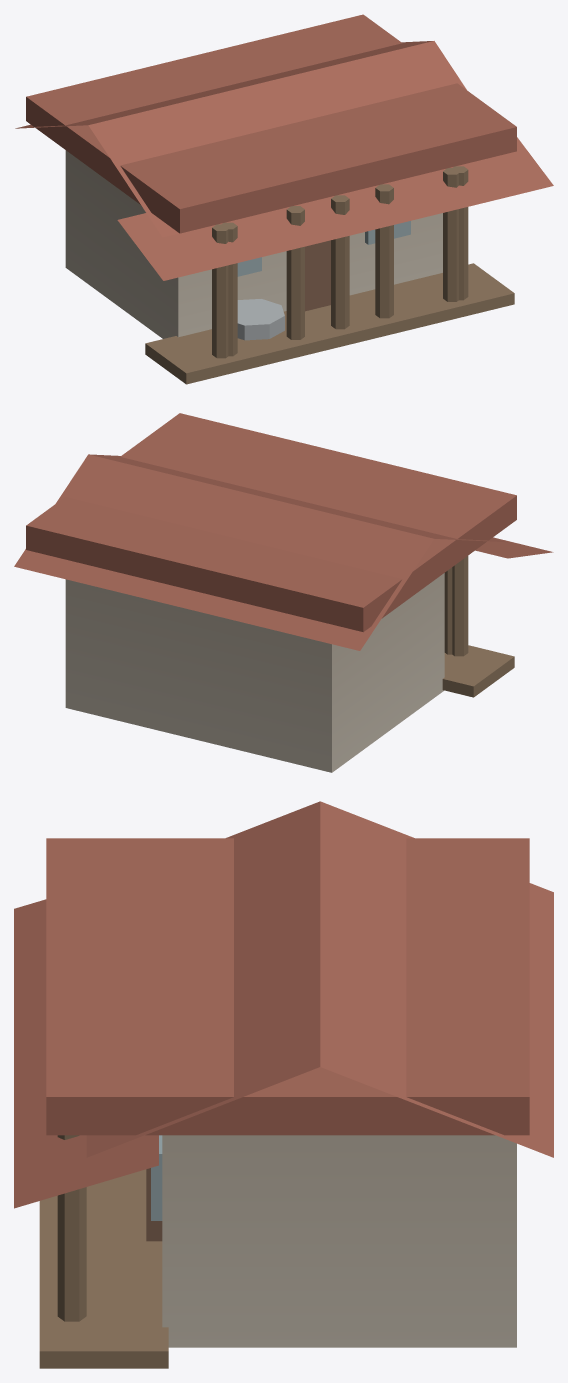
File: machine.glb
3 views of the same model, one above another, from view 1: azimuth 30°, elevation 25°; view 2: azimuth 150°, elevation 25°; view 3: azimuth 270°, elevation 25° (orthographic). The views are drawn at different scales.
Parts seen in each view (by area): view 1: near, far; view 2: near, far; view 3: near, far.
Part boxes in pixels (x1,y1,x2,y2): near: [15, 41, 553, 384]; far: [26, 14, 516, 356]; near: [14, 454, 553, 772]; far: [26, 413, 516, 654]; near: [14, 801, 553, 1368]; far: [46, 838, 529, 1135].
Bounding box in the file's own units: 2.2 × 1.07 × 1.68.
